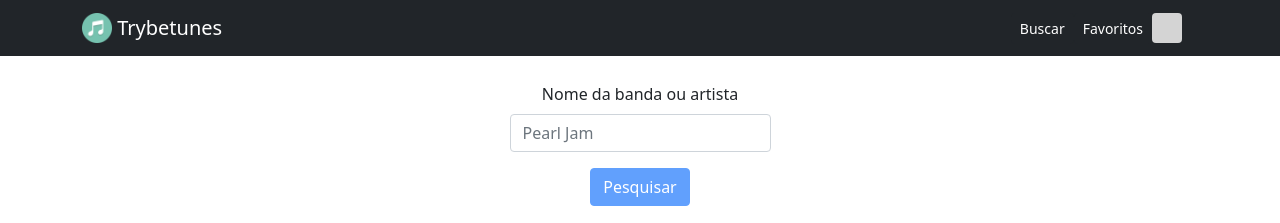
Scenario: Formulário para pesquisar artistas › Será validado se o botão está habilitado somente se o input de nome tiver 2 ou mais caracteres
Expected: the button with test id "search-artist-button" is disabled, [590, 168, 690, 206]
Type "U" into the field with test id "search-artist-input" at (640,133), box [510, 114, 770, 152]
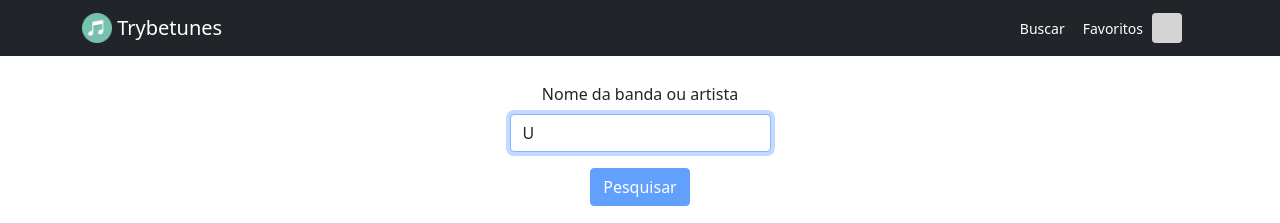
Expected: the button with test id "search-artist-button" is disabled, [590, 168, 690, 206]
Type "2" into the field with test id "search-artist-input" at (640,133), box [510, 114, 770, 152]
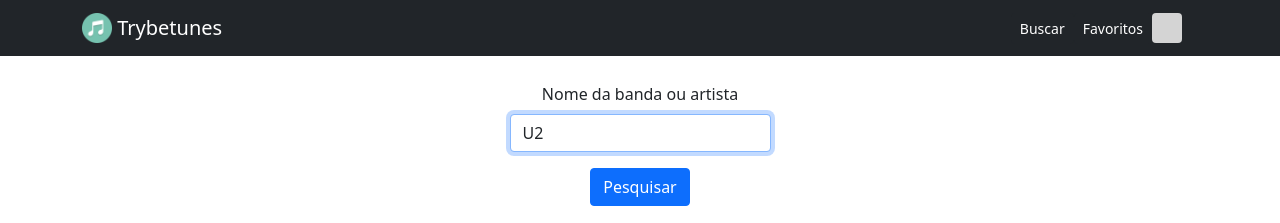
Now the field with test id "search-artist-input" holds "U2", box [510, 114, 770, 152]
Now the button with test id "search-artist-button" is enabled, box [590, 168, 690, 206]
